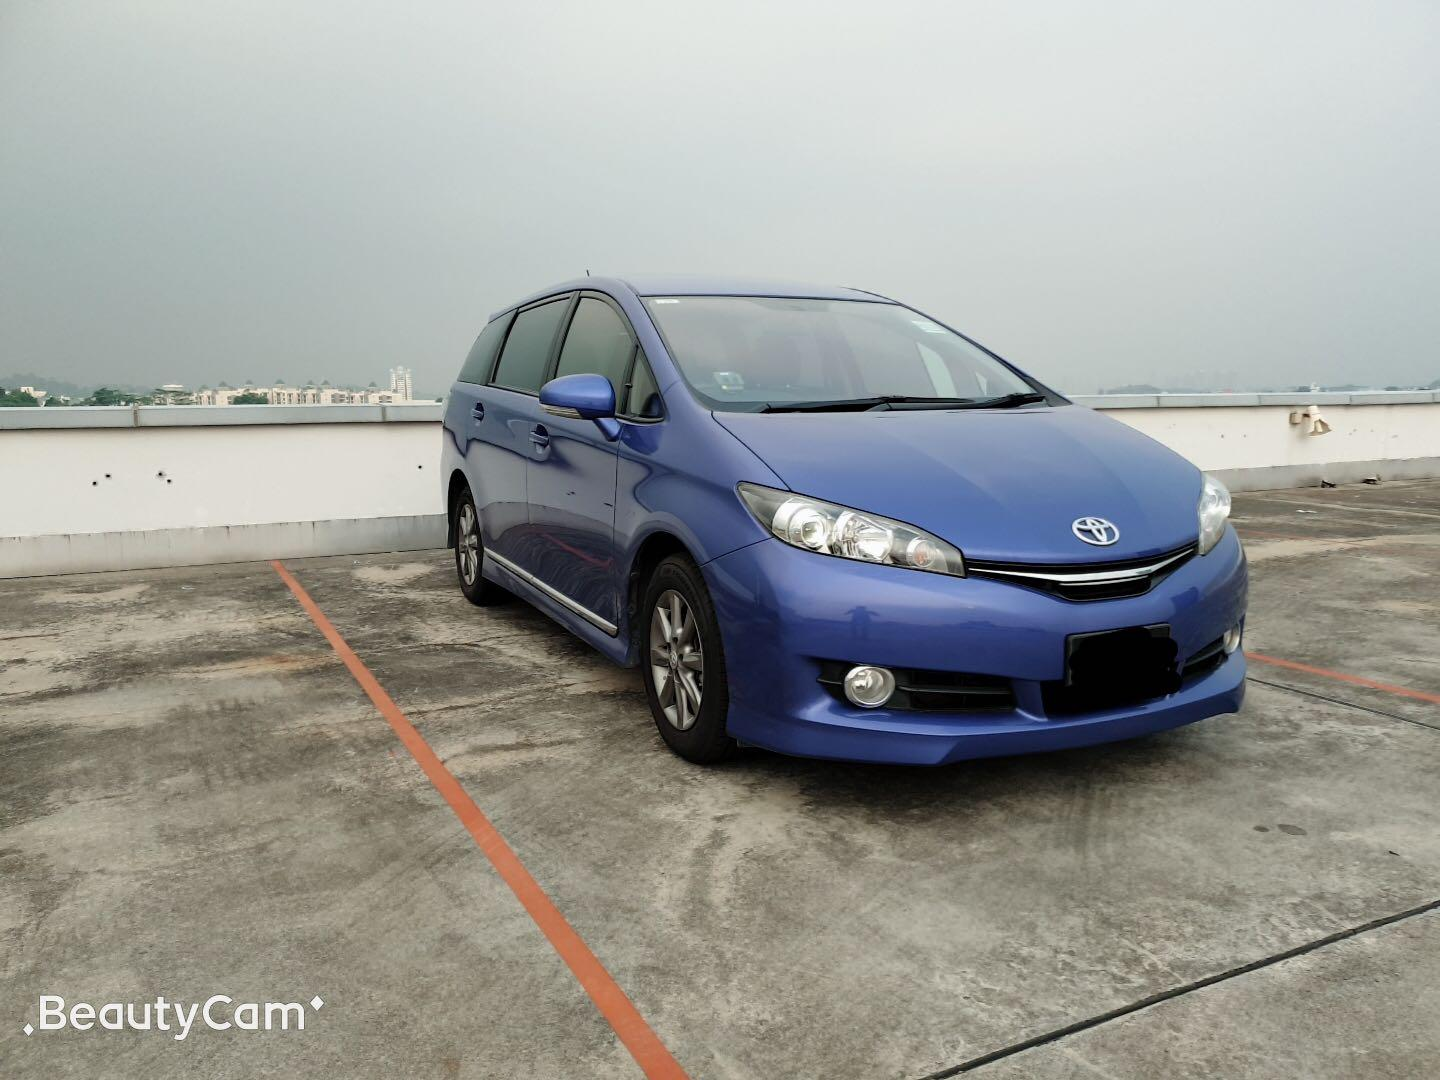car: (437, 269, 1250, 768)
